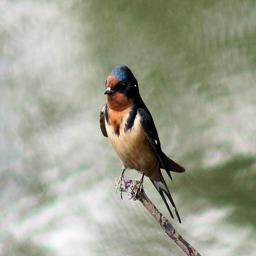Swallow: (97, 64, 182, 225)
